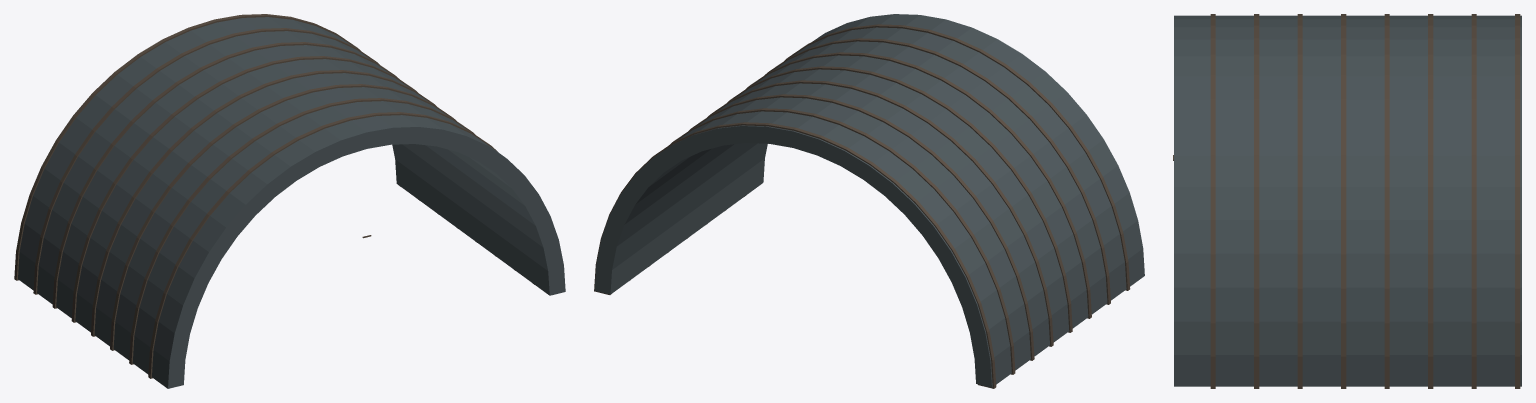
The model's file is arched-tunnel-1.glb.
3 views of the same model, side by side, from view 1: azimuth 30°, elevation 25°; view 2: azimuth 150°, elevation 25°; view 3: azimuth 270°, elevation 25° (orthographic). The views are drawn at different scales.
Visible parts, largest first — view 1: arched-tunnel/0/KR-230-1; view 2: arched-tunnel/0/KR-230-1; view 3: arched-tunnel/0/KR-230-1.
Part boxes in pixels (box(x1,y1,x2,y2)): arched-tunnel/0/KR-230-1: box(14, 14, 565, 388); arched-tunnel/0/KR-230-1: box(594, 14, 1144, 388); arched-tunnel/0/KR-230-1: box(1173, 14, 1521, 388).
Bounding box in the file's own units: 12.08 × 6.08 × 8.02.
